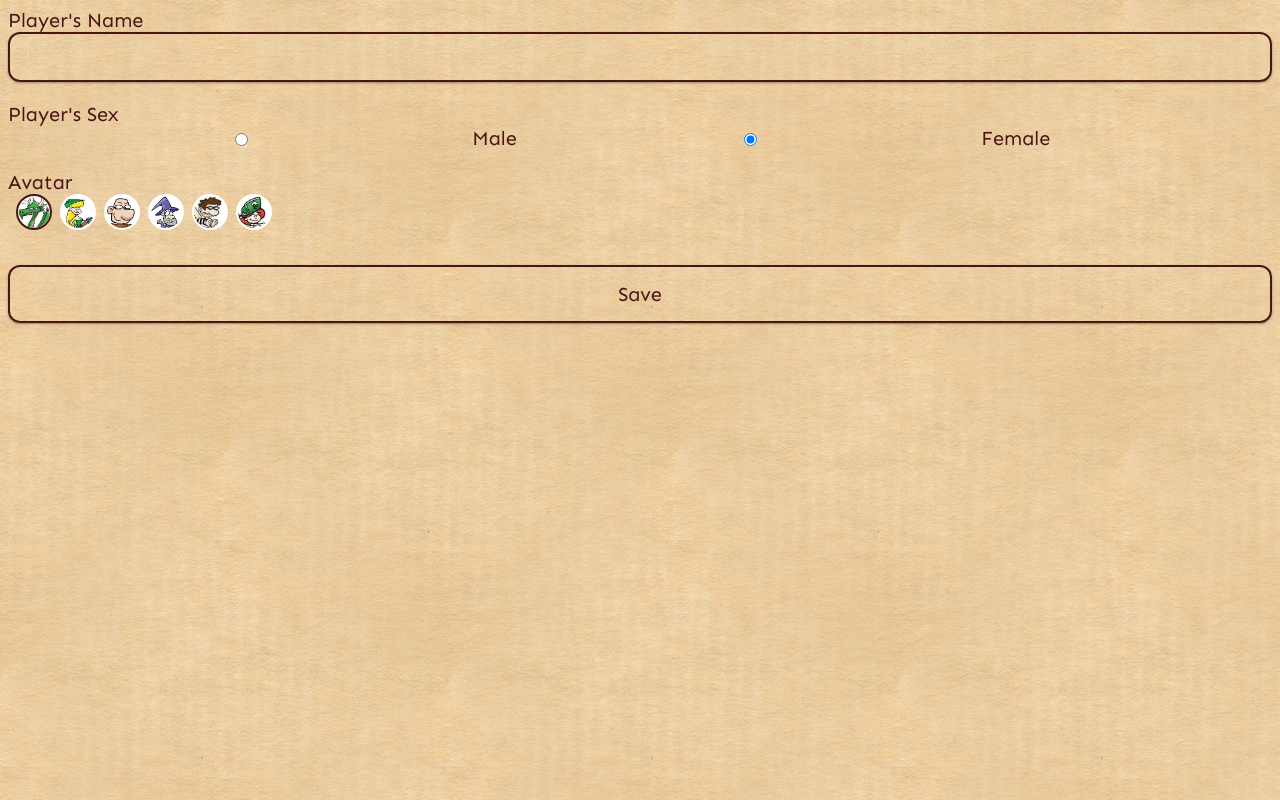
<PlayerForm/> › handle player name min character error
Click the button with test id "player-form__submit": (640, 294) 8,265 -> 1272,323
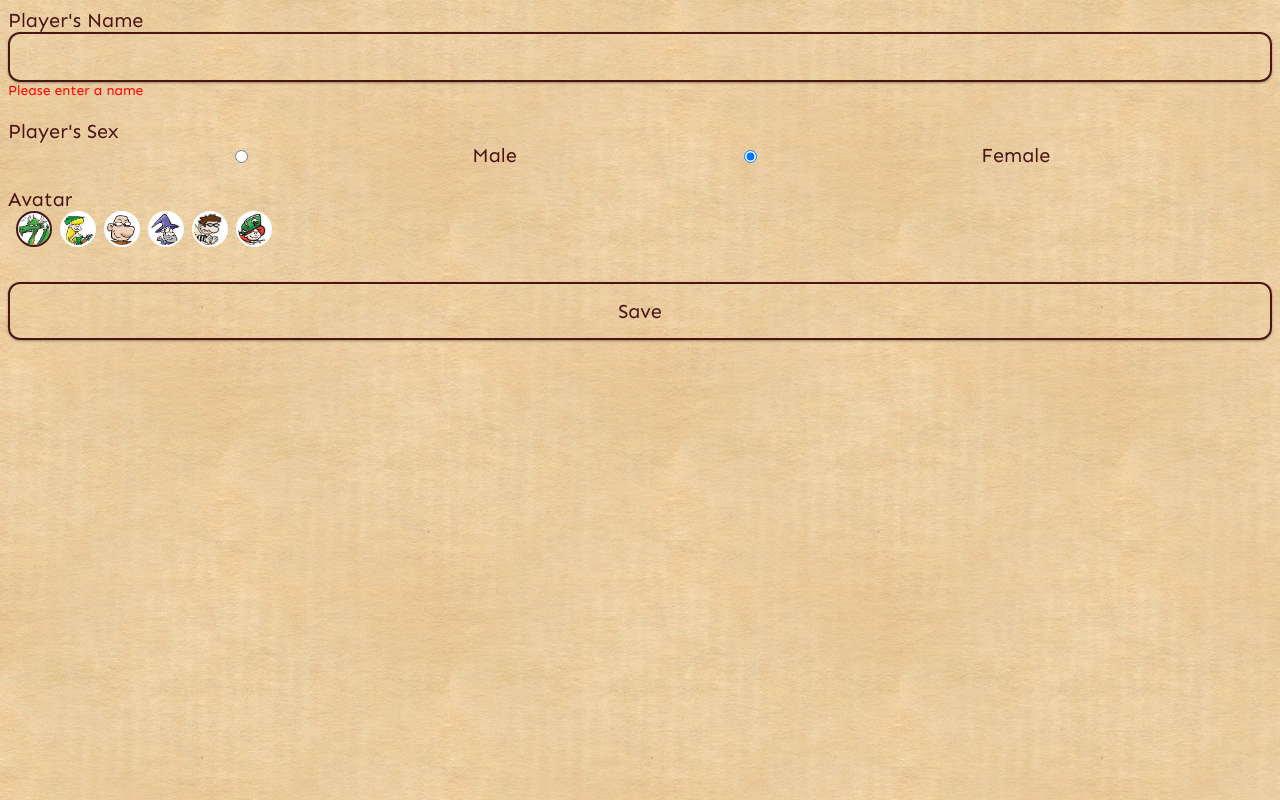
Now the text "Please enter a name" is shown, box 8,82 -> 143,99
